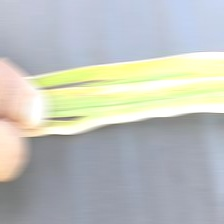Leaf_Blast: (32, 59, 218, 129)
